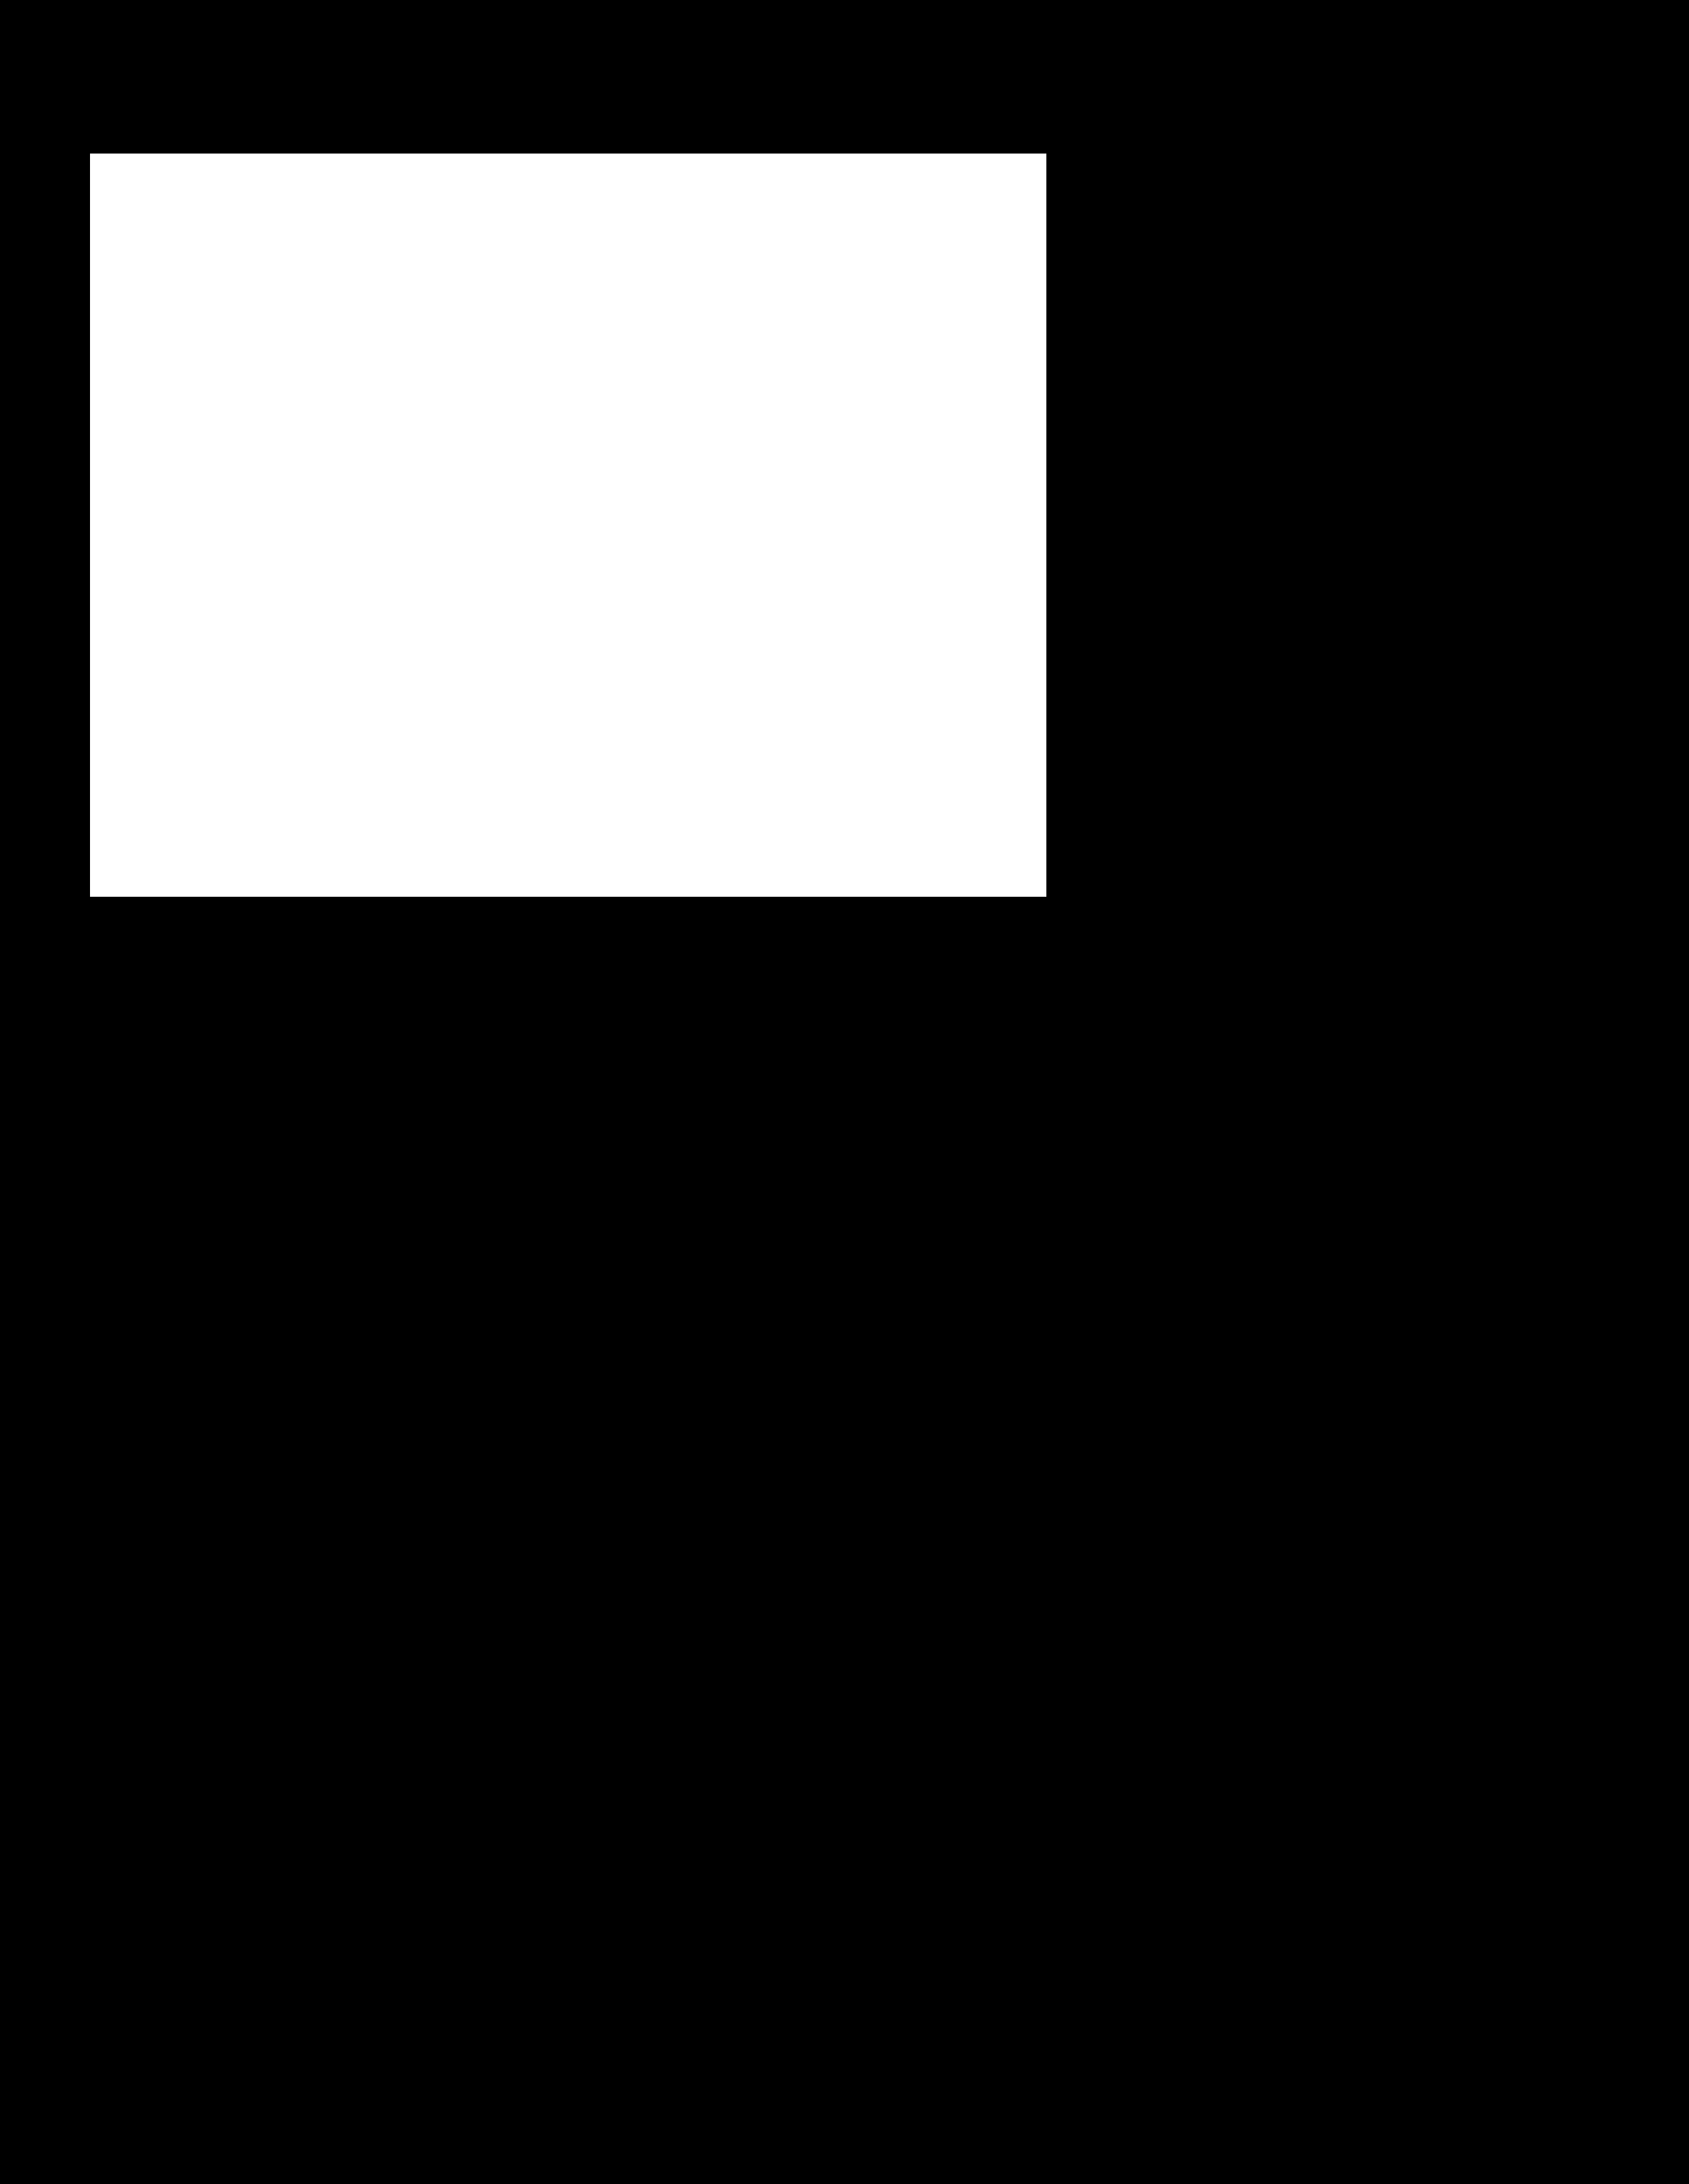table: (90, 154, 1046, 895)
